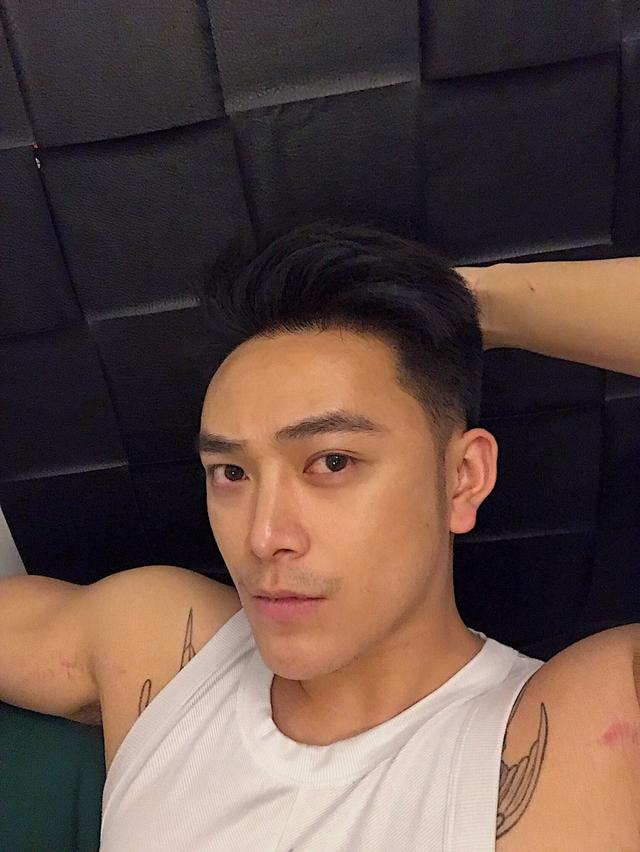person: (93, 184, 572, 849)
